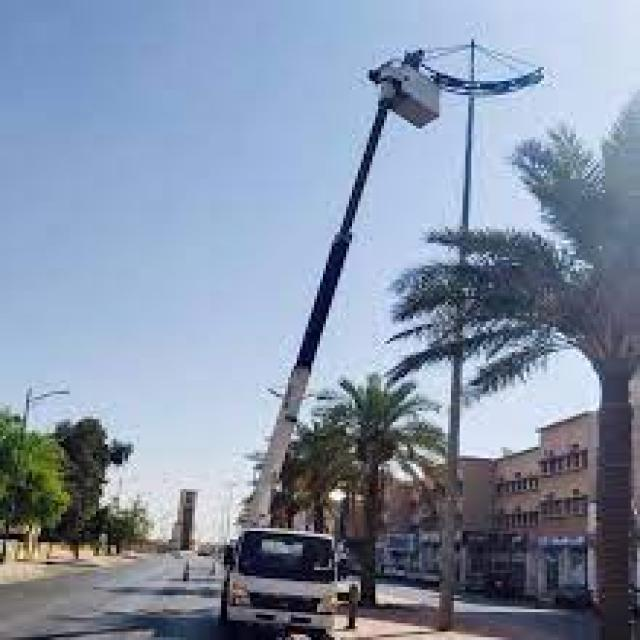Street Light: (3, 386, 73, 559)
